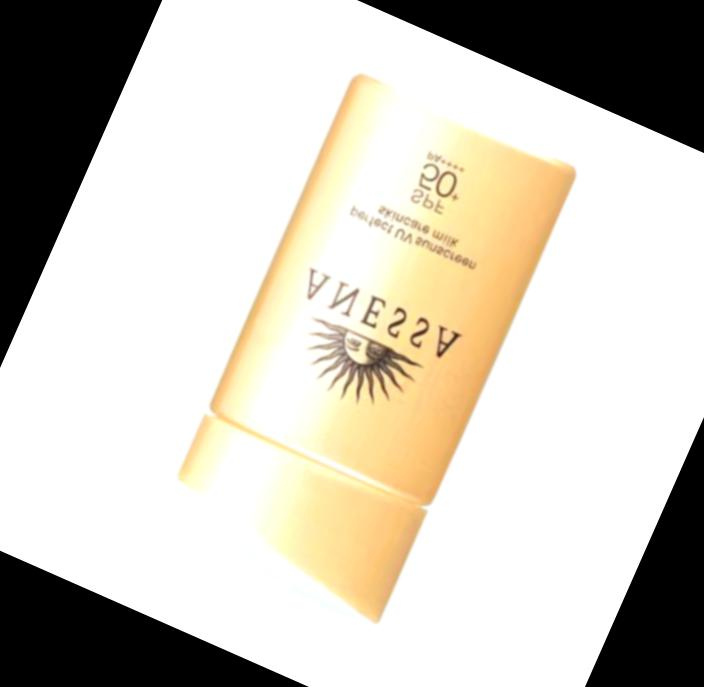cosmetic: (154, 76, 579, 631)
